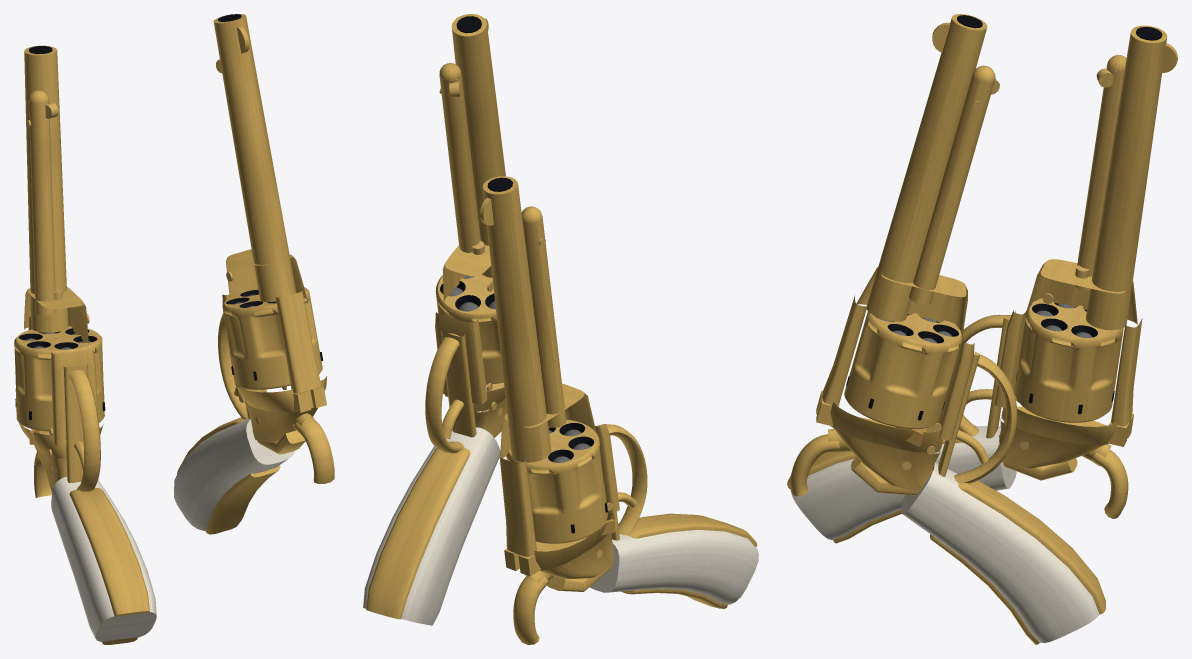
The model's file is gun.gilded-sovereign.gltf.
The picture shows the model from 3 angles, left to right: view 1: azimuth 30°, elevation 25°; view 2: azimuth 150°, elevation 25°; view 3: azimuth 270°, elevation 25°; orthographic projection. The views are drawn at different scales.
Visible parts, largest first — view 1: revolver (×2); view 2: revolver (×2); view 3: revolver (×2).
Part boxes in pixels (x1,y1,x2,y2): revolver (×2): (14, 14, 334, 644); revolver (×2): (363, 14, 758, 644); revolver (×2): (787, 14, 1177, 644).
Size of the model in its own units: 0.1616 by 0.3355 by 0.1944.
1 material, 1 textured.
